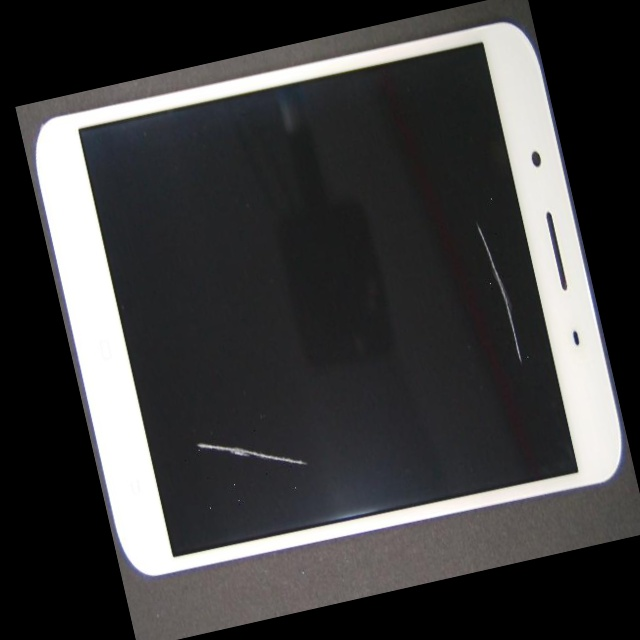scratch: (225, 59, 624, 496), (54, 237, 318, 640)
